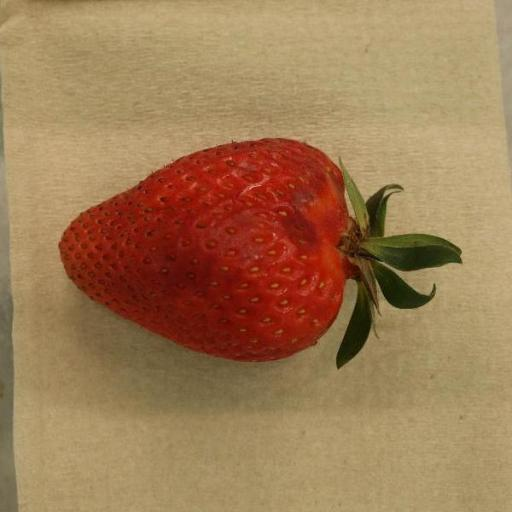Strawberry: (59, 139, 464, 369)
